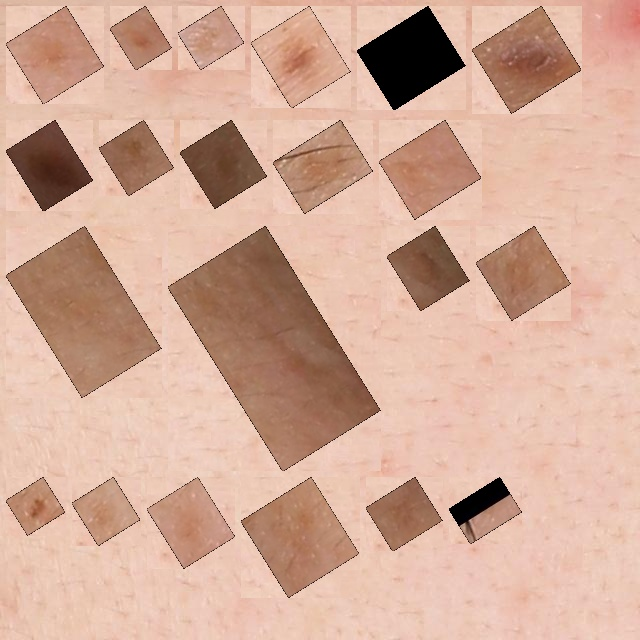melasma: (179, 237, 369, 460), (17, 237, 150, 386), (252, 488, 348, 586), (368, 17, 454, 99), (262, 17, 339, 97), (390, 131, 470, 208), (17, 17, 93, 93), (284, 131, 362, 202), (487, 237, 560, 309), (158, 488, 224, 557), (191, 131, 256, 197), (398, 237, 458, 299), (110, 131, 163, 185), (377, 488, 431, 540), (460, 488, 511, 533), (83, 488, 129, 534), (189, 17, 233, 58), (121, 17, 161, 59)
nevus: (483, 17, 570, 102), (17, 131, 82, 200)
